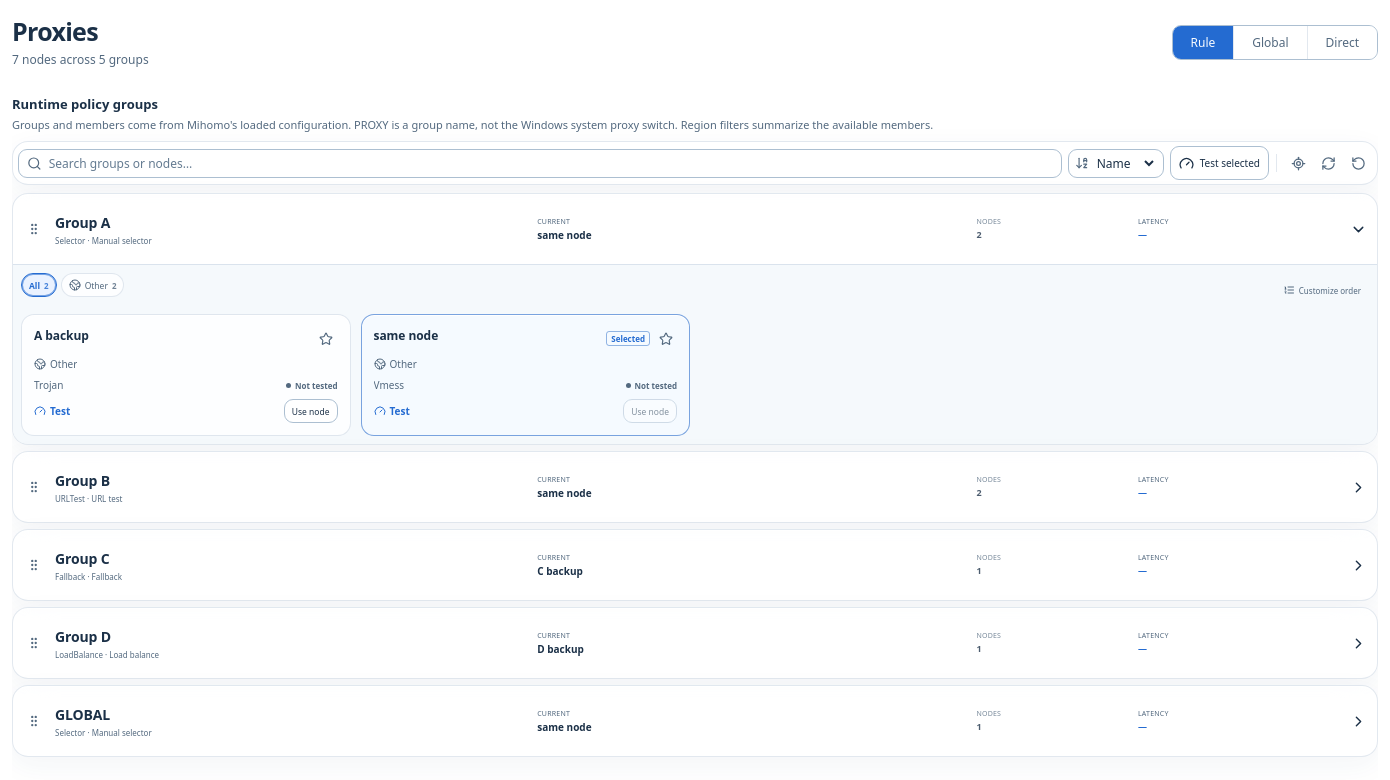
Scenario: ProxiesPage strategy center › filters groups and nodes, and auto-expands matching sections for presentation
This screenshot has width=1390, height=780.
Type "B backup" into the field labelled "Search groups or nodes…" at (551, 163), box [49,154,1053,172]
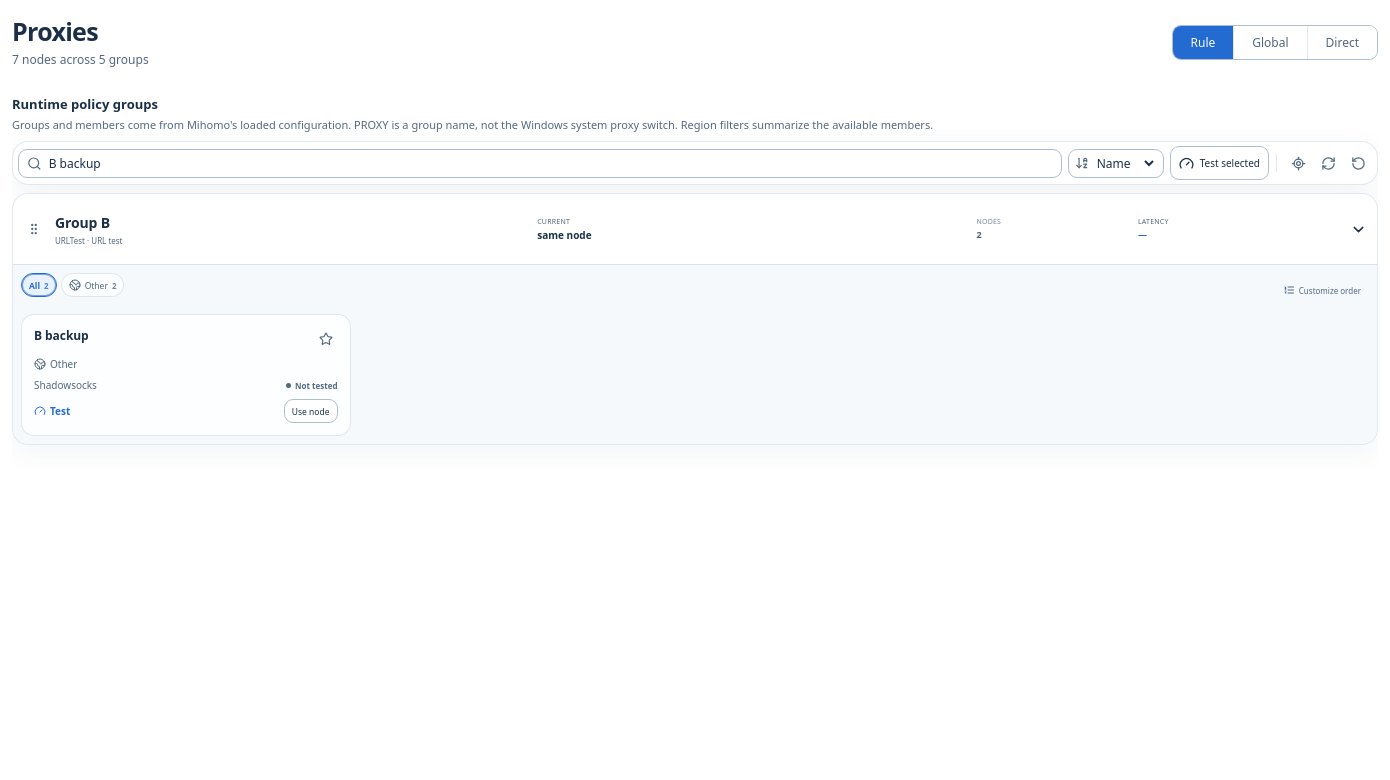
Now the list named "Group B" is shown, box [21,314,350,436]
Now the text "B backup" is shown, box [34,327,89,344]
Now the text "A backup" is gone
